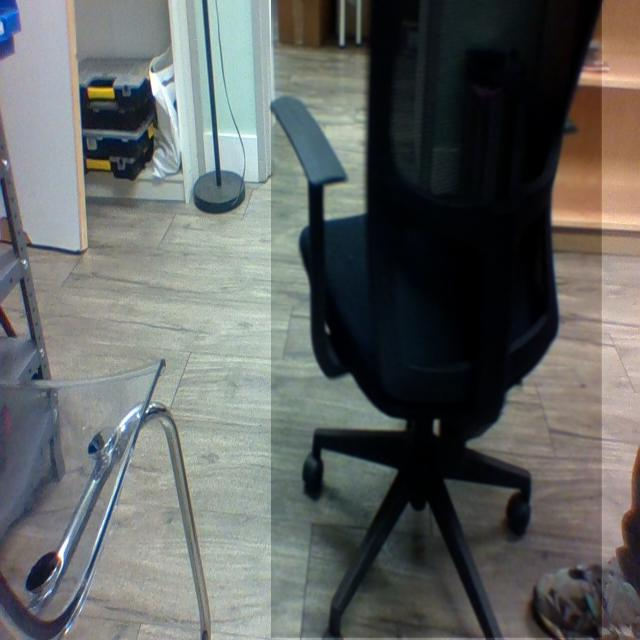black-chair: (271, 0, 603, 639)
